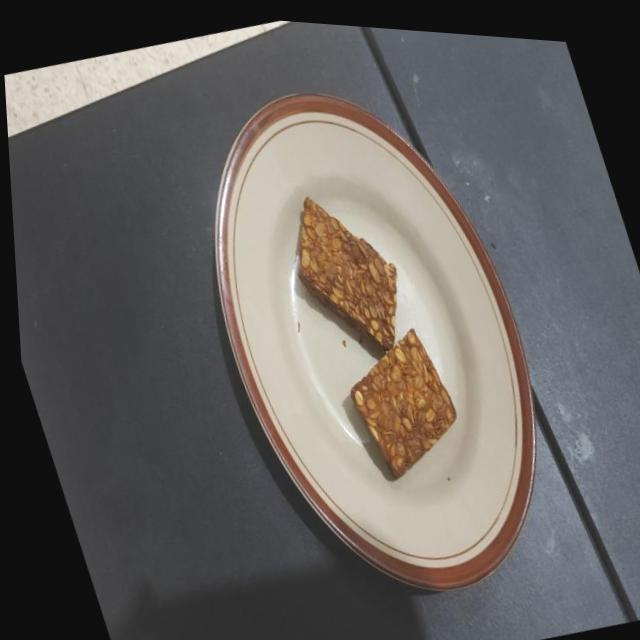tempe_goreng: (348, 328, 458, 480), (298, 198, 396, 354)
